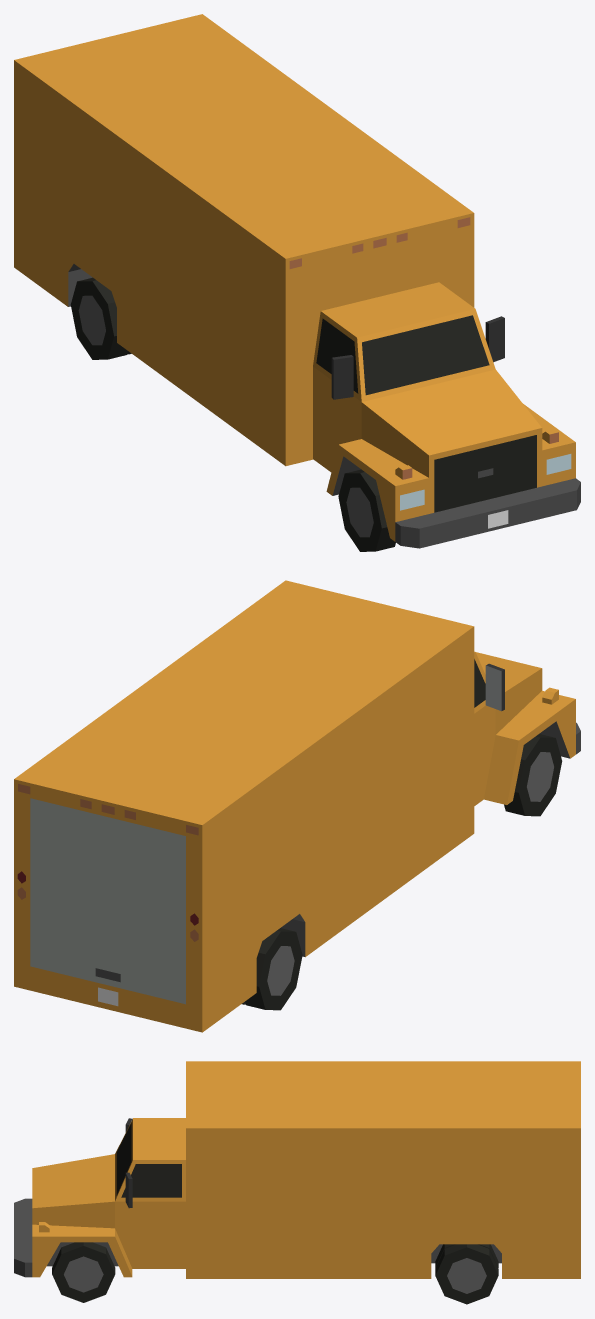
Rendered from Veh_Truck_01_Yellow.obj.
3 views of the same model, one above another, from view 1: azimuth 30°, elevation 25°; view 2: azimuth 150°, elevation 25°; view 3: azimuth 270°, elevation 25° (orthographic). The views are drawn at different scales.
Size of the model in its own units: 1.35 by 1.66 by 4.85.
